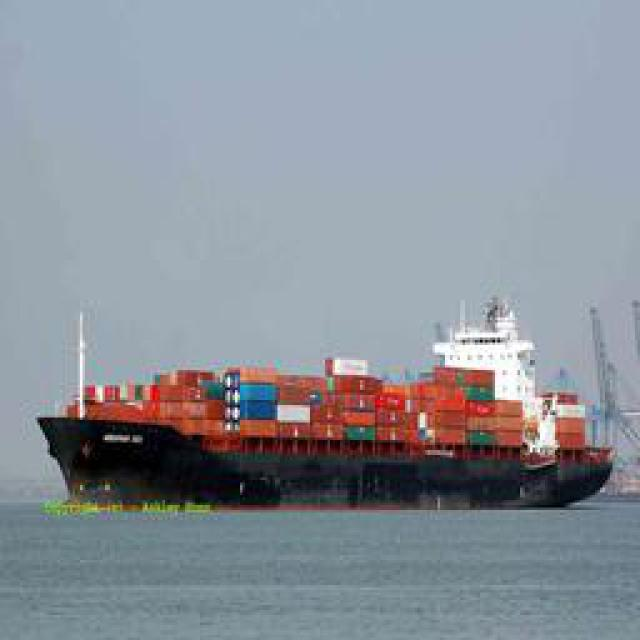Ship: (24, 297, 627, 507)
